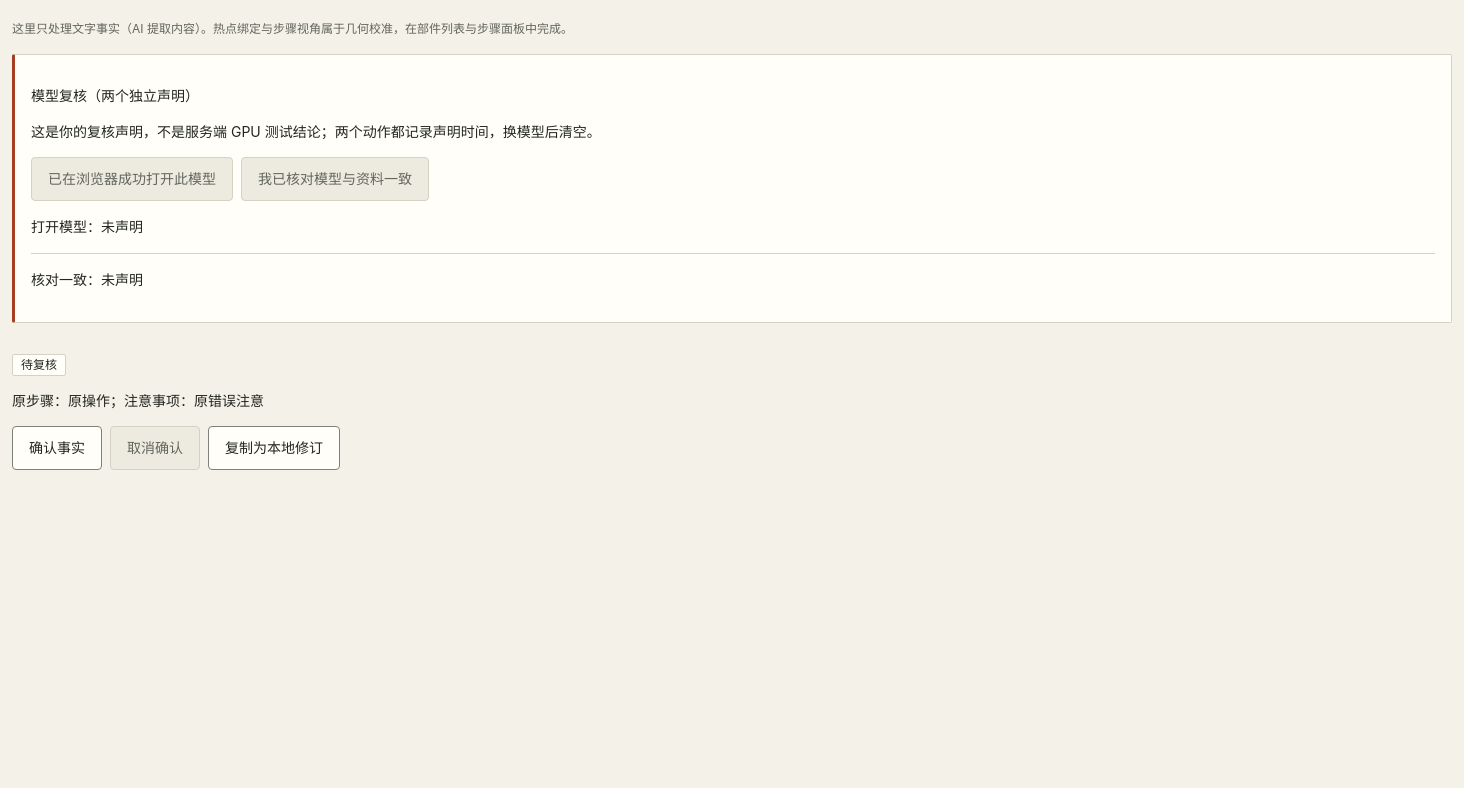
it: cancelling a warning revision performs no save
The width and height of the screenshot is (1464, 788).
Click the button "复制为本地修订".
click(274, 448)  # box [208, 426, 340, 470]
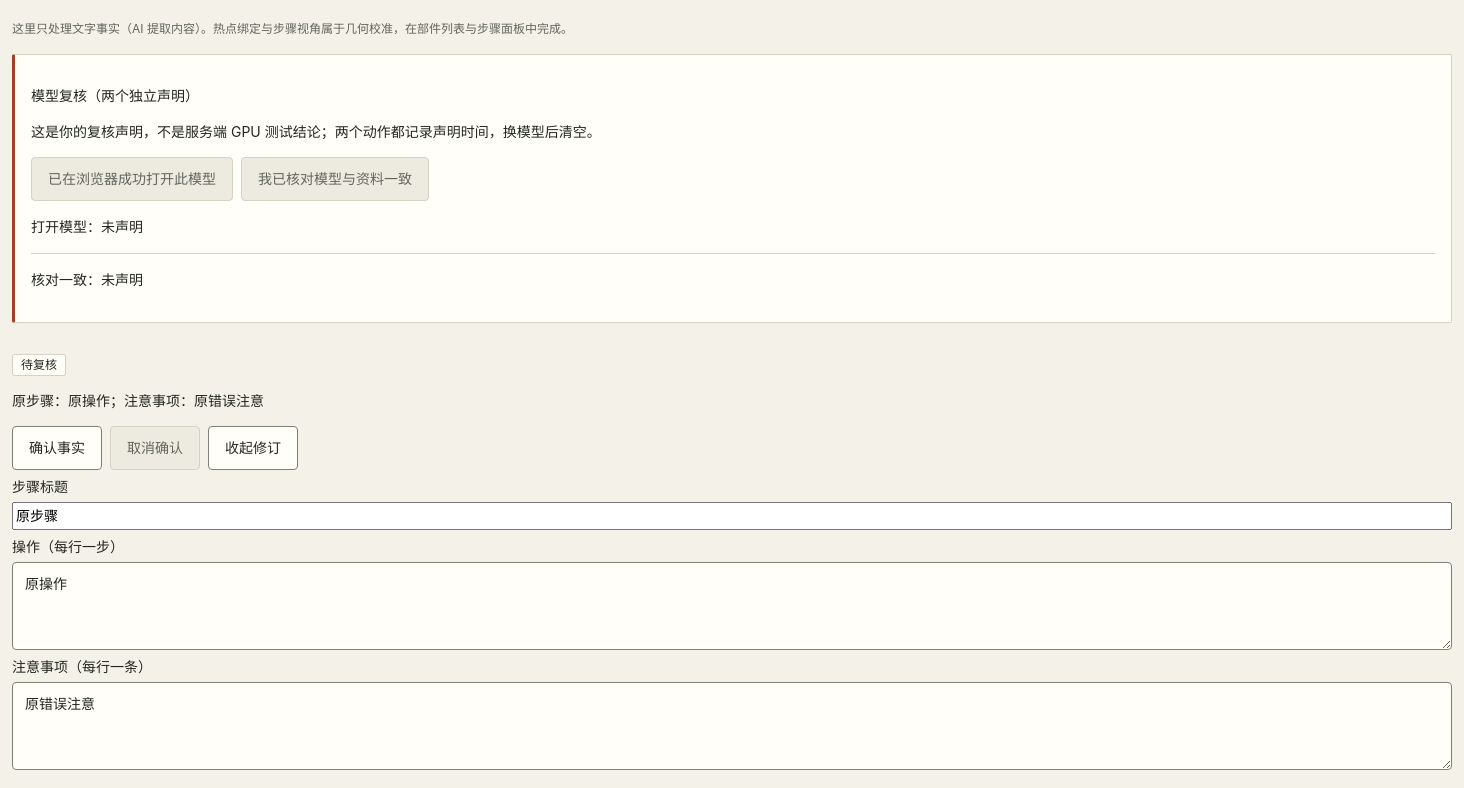
Replace the text in the text box labelled "注意事项（每行一条）" with "更正" at (732, 726), box [12, 682, 1452, 770]
(page scrolled)
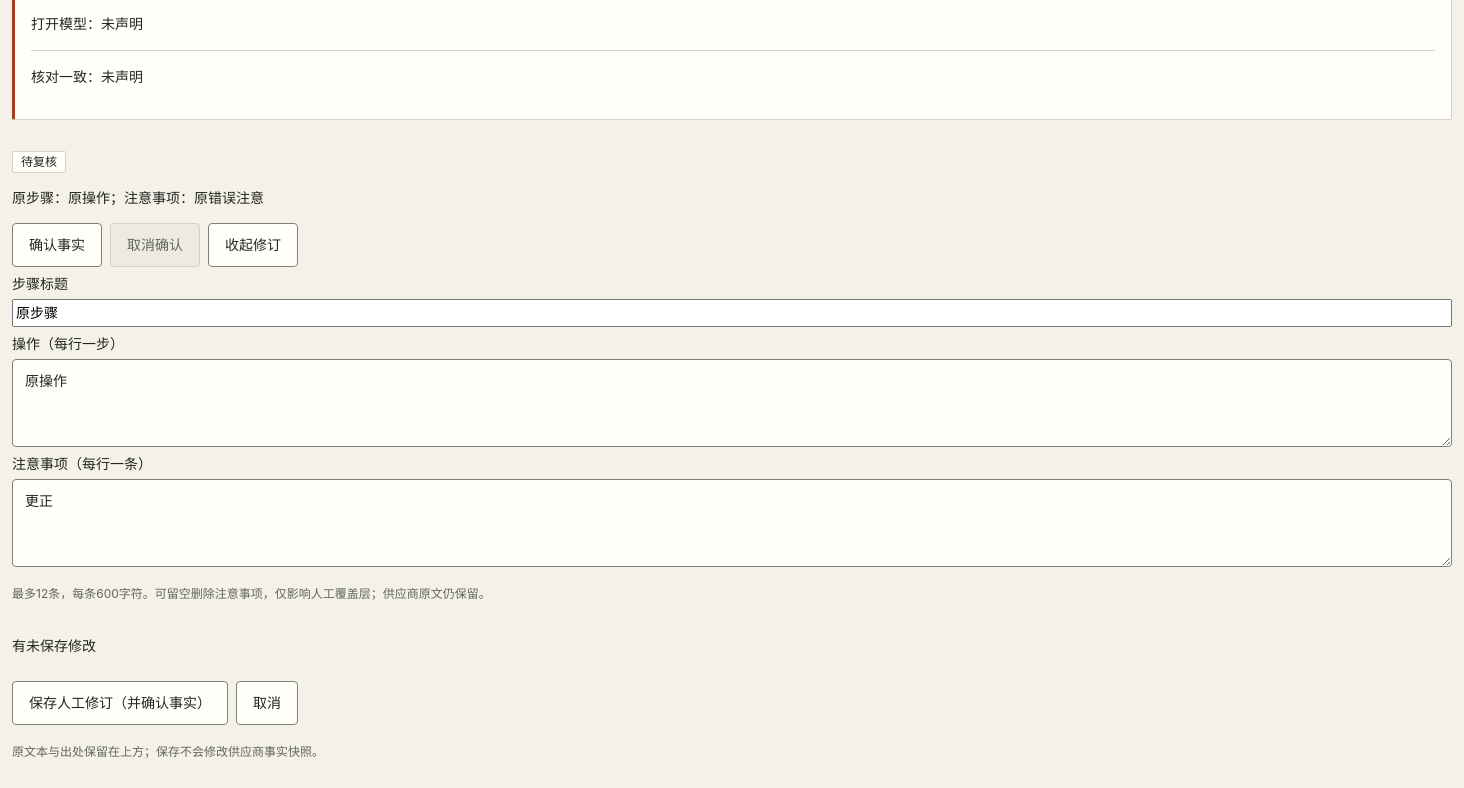
Click the button "取消".
click(267, 703)  # box [236, 681, 298, 725]
(page scrolled)
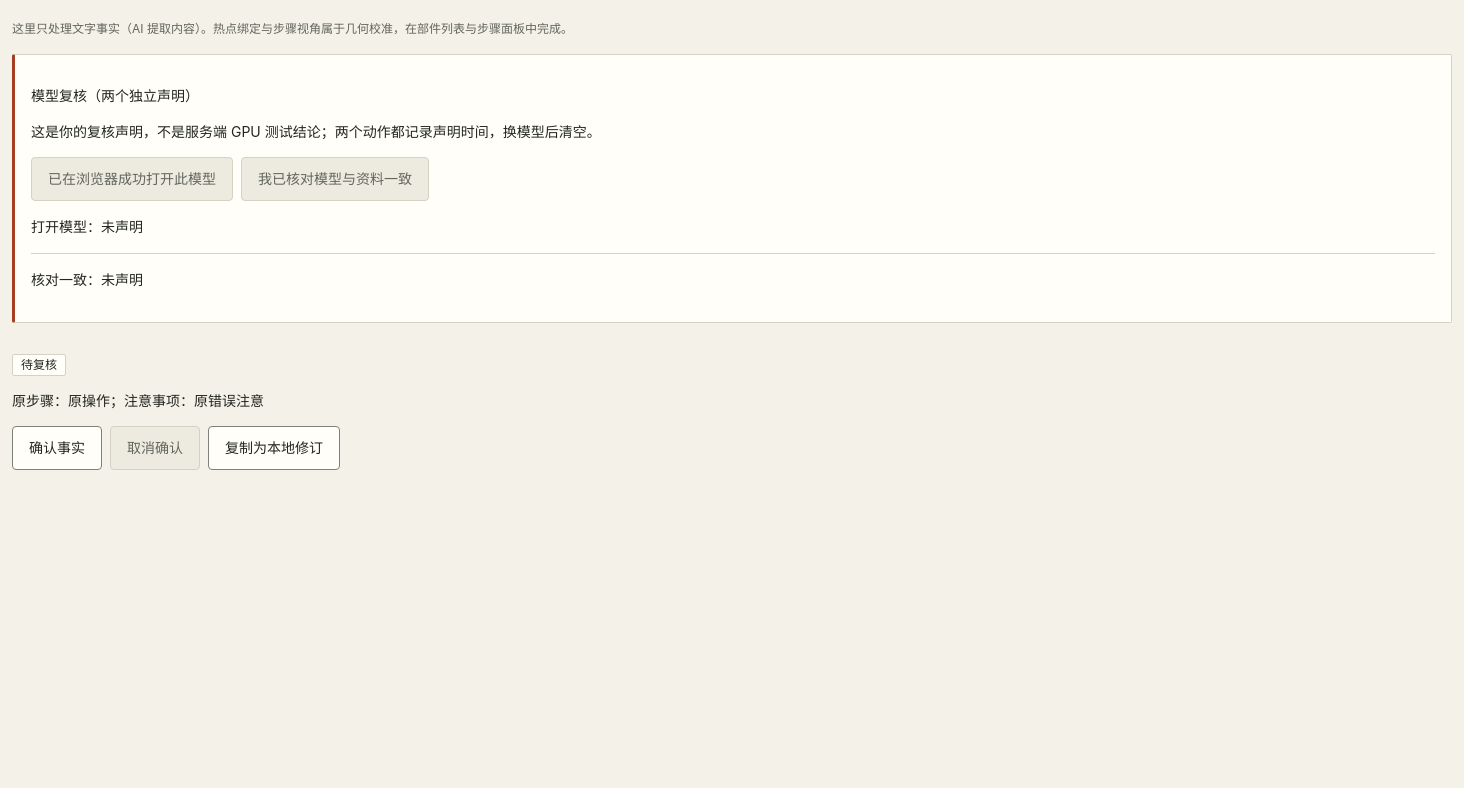
Check: the label "注意事项（每行一条）" is gone
